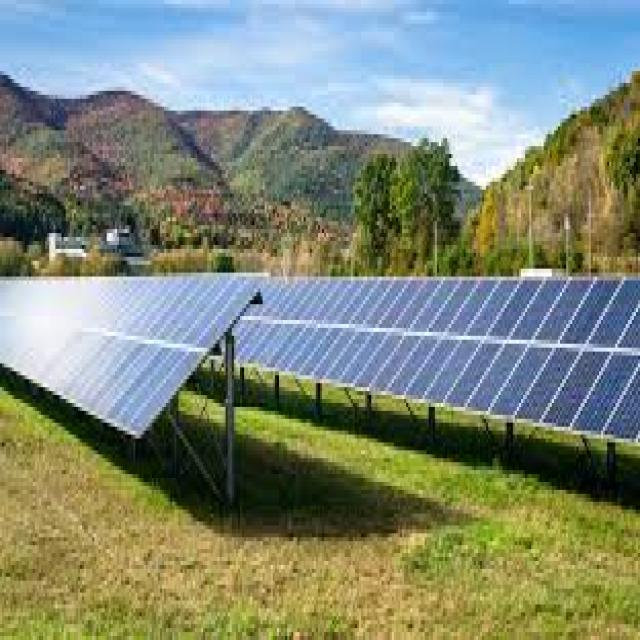clean-solar-panel: (233, 279, 640, 440), (0, 275, 266, 441)
